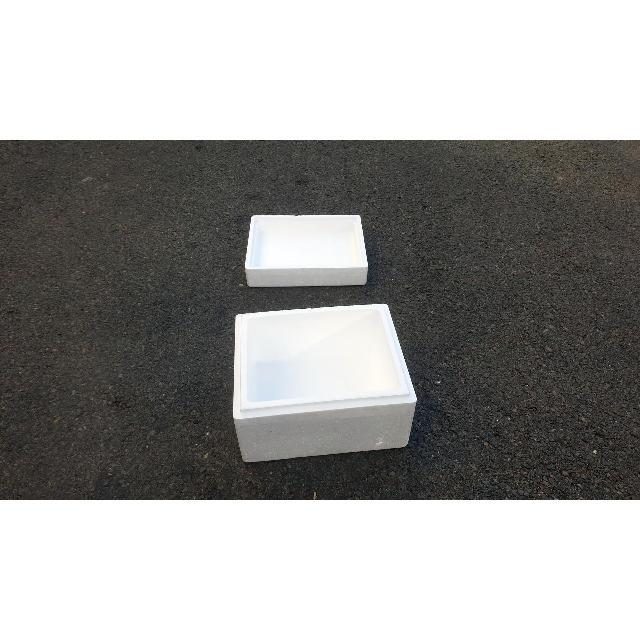Plastico descartable: (231, 304, 418, 465), (244, 215, 369, 287)
